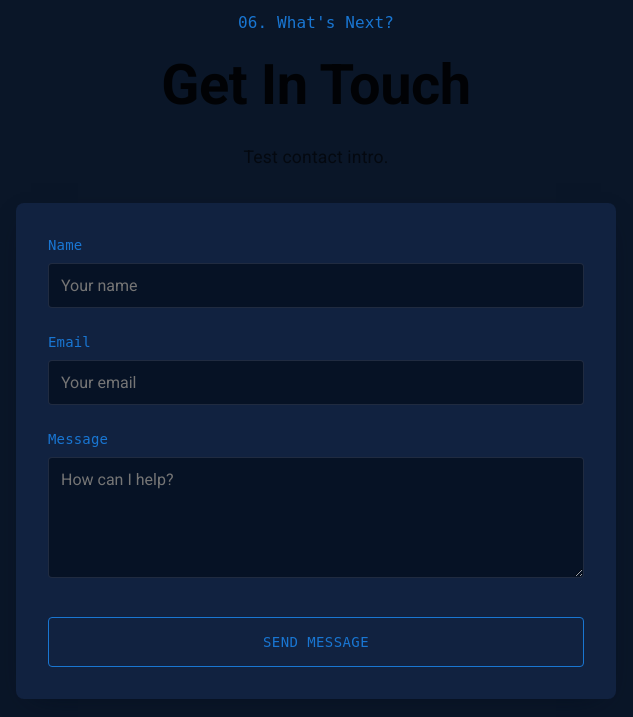
Scenario: Contact Component › submits form and requests OTP verification
Step 1. Type "Test User" into the field with placeholder "Your name" → (316, 285), box [48,263,584,308]
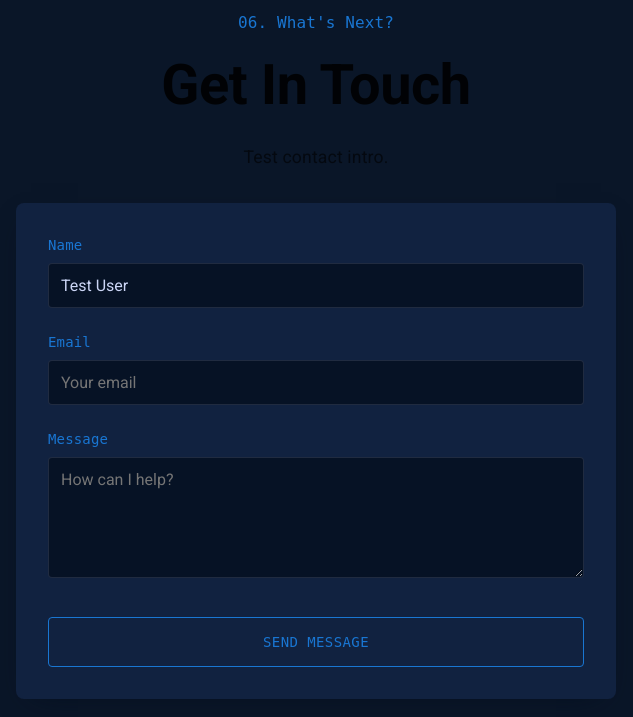
Step 2. Type "test@example.com" into the field with placeholder "Your email" → (316, 382), box [48,360,584,405]
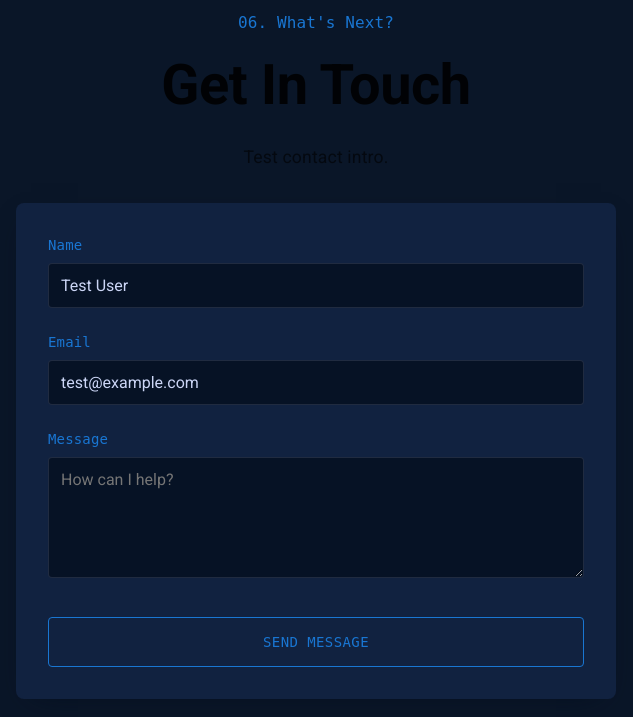
Step 3. Type "Hello world" into the text box with placeholder "How can I help?" → (316, 518), box [48,457,584,578]
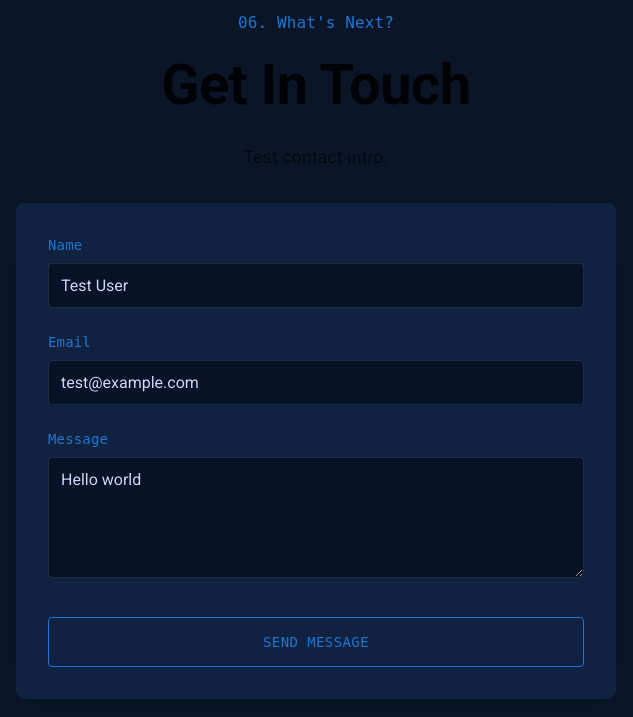
Step 4. Click the button "Send Message" → (316, 642), box [48,617,584,668]
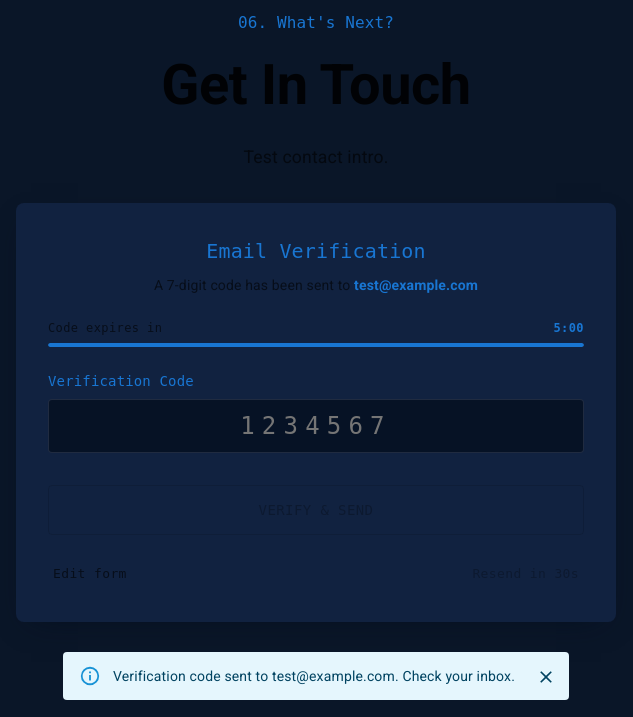
Now the field with placeholder "1234567" is shown, box [48,399,584,453]
